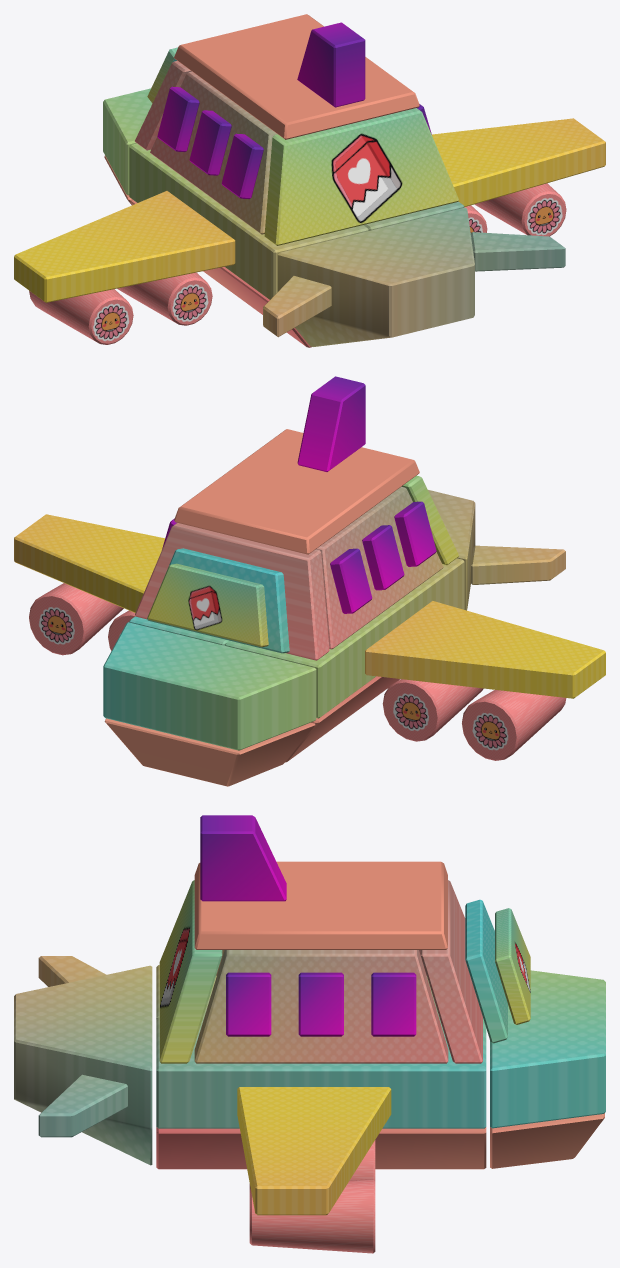
The model's file is lvl_66.fbx.
The picture shows the model from 3 angles, top to bottom: view 1: azimuth 30°, elevation 25°; view 2: azimuth 150°, elevation 25°; view 3: azimuth 270°, elevation 25°; orthographic projection. The views are drawn at different scales.
Parts seen in each view (by area): view 1: Cube_L2_2, Cube_L1_6, Cube_L3_6, Cube_L1_4, Cube_L3_1, Cube_L2_6, Cube_L1_10, Cube_L1_7, Cube_L3_7, Cube_L3_3, Cube_L3_5, Cube_L3 (+9 smaller); view 2: Cube_L2_4, Cube_L1_4, Cube_L3_6, Cube_L3_1, Cube_L1_8, Cube_L1_5, Cube_L2_6, Cube_L2_3, Cube_L1_10, Cube_L1_7, Cube_L3_7, Cube_L3 (+10 smaller); view 3: Cube_L1_4, Cube_L2_2, Cube_L1_3, Cube_L2, Cube_L3_1, Cube_L2_4, Cube_L2_1, Cube_L1_6, Cube_L1_7, Cube_L3, Cube_L1_8, Cube_L2_3 (+7 smaller).
Part boxes in pixels (x1,y1,x2,y2): Cube_L2_2: [277, 207, 474, 346]; Cube_L1_6: [264, 108, 458, 245]; Cube_L3_6: [14, 191, 235, 302]; Cube_L1_4: [174, 14, 419, 139]; Cube_L3_1: [432, 118, 605, 206]; Cube_L2_6: [129, 143, 368, 299]; Cube_L1_10: [150, 71, 277, 234]; Cube_L1_7: [297, 22, 365, 107]; Cube_L3_7: [29, 289, 133, 344]; Cube_L3_3: [470, 232, 565, 271]; Cube_L3_5: [117, 272, 212, 325]; Cube_L3: [474, 183, 566, 236]; Cube_L2_4: [103, 622, 316, 750]; Cube_L1_4: [174, 429, 419, 554]; Cube_L3_6: [365, 601, 605, 698]; Cube_L3_1: [14, 514, 165, 612]; Cube_L1_8: [135, 523, 329, 660]; Cube_L1_5: [147, 563, 268, 647]; Cube_L2_6: [225, 558, 464, 718]; Cube_L2_3: [104, 718, 315, 786]; Cube_L1_10: [316, 486, 443, 649]; Cube_L1_7: [297, 376, 365, 471]; Cube_L3_7: [462, 690, 566, 760]; Cube_L3: [29, 583, 123, 655]; Cube_L1_4: [194, 861, 447, 949]; Cube_L2_2: [14, 965, 152, 1165]; Cube_L1_3: [194, 950, 448, 1063]; Cube_L2: [156, 1017, 486, 1128]; Cube_L3_1: [237, 1087, 391, 1215]; Cube_L2_4: [490, 970, 605, 1128]; Cube_L2_1: [156, 1127, 486, 1169]; Cube_L1_6: [159, 880, 222, 1063]; Cube_L1_7: [200, 815, 286, 901]; Cube_L3: [249, 1179, 375, 1253]; Cube_L1_8: [420, 880, 482, 1063]; Cube_L2_3: [490, 1113, 604, 1168].
Bounding box in the file's own units: 9.21 × 4.34 × 7.44.
